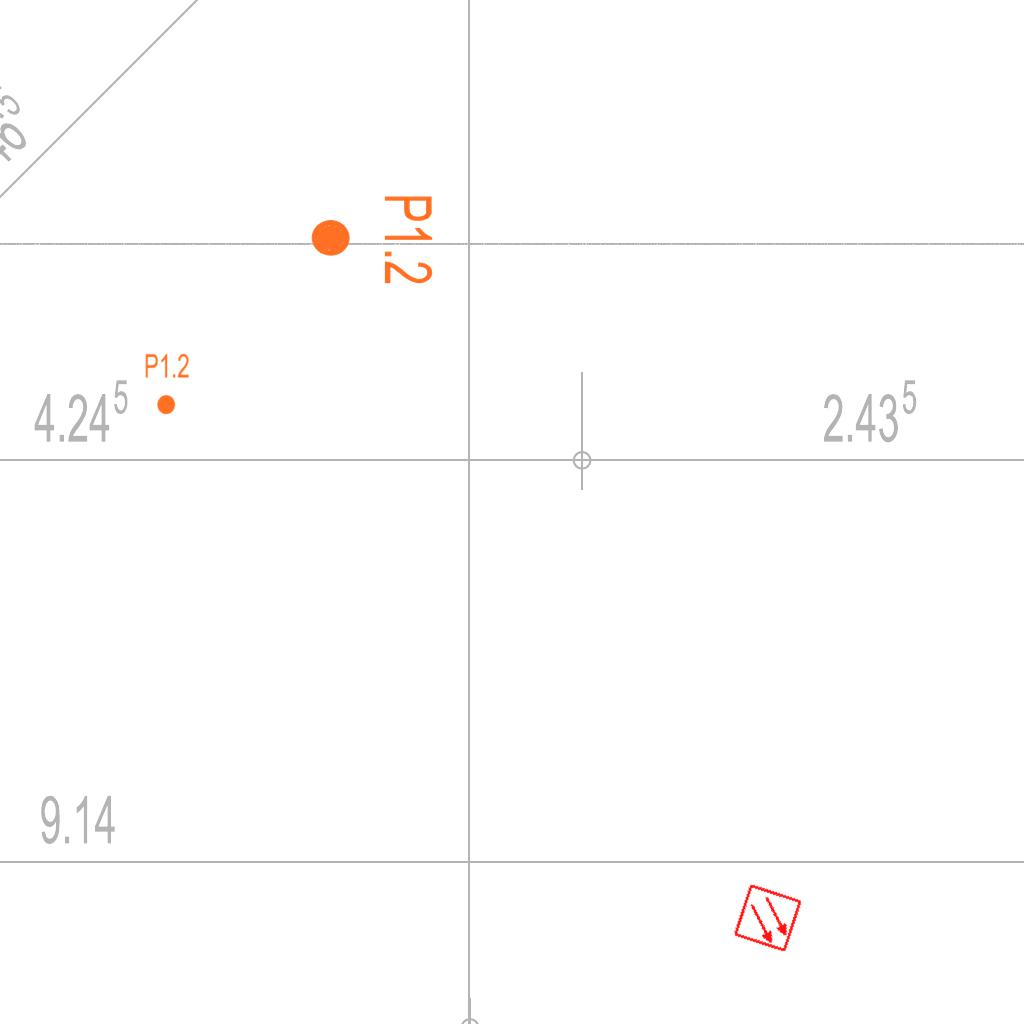Downlight_LED_Einbauleuchten_Flur: (308, 193, 436, 286), (144, 352, 190, 416)
RMO_Rauchmelder_optischer: (732, 882, 804, 954)
